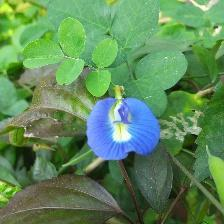shankupushpam: (86, 96, 165, 165)
